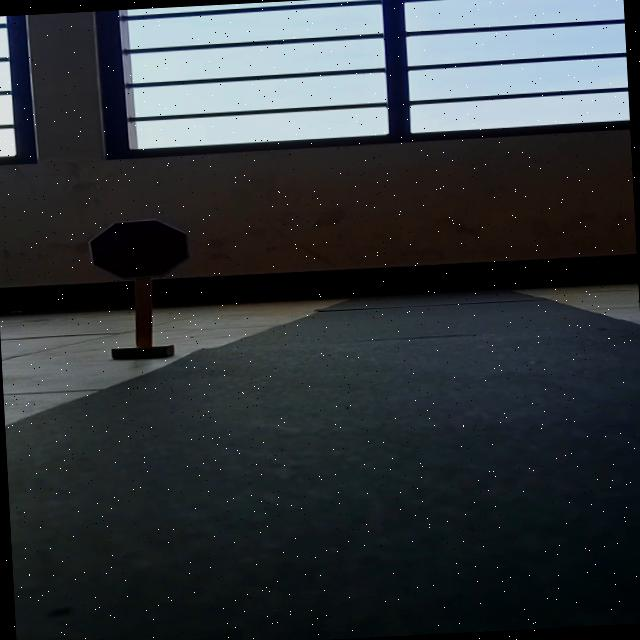Stop: (87, 218, 193, 282)
